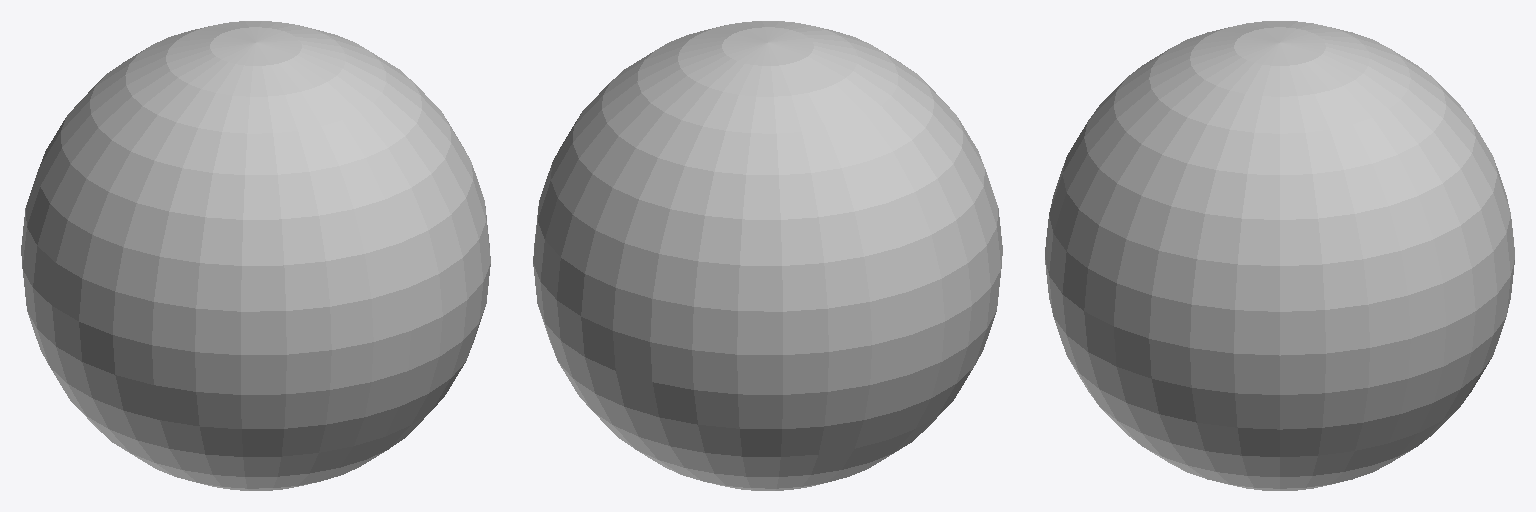
Rendered from BB8Body.obj.
The picture shows the model from 3 angles: view 1: azimuth 30°, elevation 25°; view 2: azimuth 150°, elevation 25°; view 3: azimuth 270°, elevation 25°; orthographic projection.
Visible parts, largest first — view 1: polySurface12 polySurface1; view 2: polySurface12 polySurface1; view 3: polySurface12 polySurface1.
Boxes of the visible parts, box(x1,y1,x2,y2) form: polySurface12 polySurface1: box(21, 21, 490, 490); polySurface12 polySurface1: box(533, 21, 1002, 490); polySurface12 polySurface1: box(1045, 21, 1514, 490).
Size of the model in its own units: 1.8 by 1.8 by 1.8.